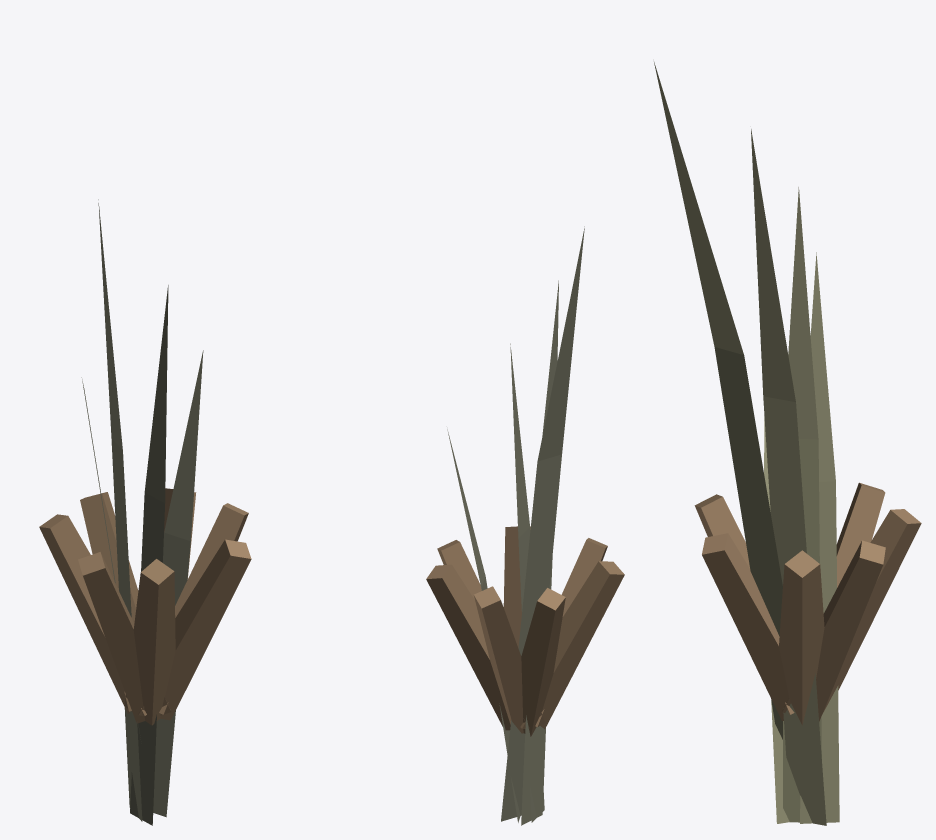
The model's file is shui.changpu@flowering__winter.glb.
3 renders of one model, left to right at view 1: azimuth 30°, elevation 25°; view 2: azimuth 150°, elevation 25°; view 3: azimuth 270°, elevation 25°, orthographic. The views are drawn at different scales.
Parts seen in each view (by area): view 1: shui.changpu@flowering__winter; view 2: shui.changpu@flowering__winter; view 3: shui.changpu@flowering__winter.
Boxes of the visible parts, bbox=[...] form: shui.changpu@flowering__winter: bbox=[39, 199, 251, 825]; shui.changpu@flowering__winter: bbox=[426, 226, 624, 825]; shui.changpu@flowering__winter: bbox=[654, 62, 921, 825].
Size of the model in its own units: 0.5859 by 1.62 by 0.4645.
